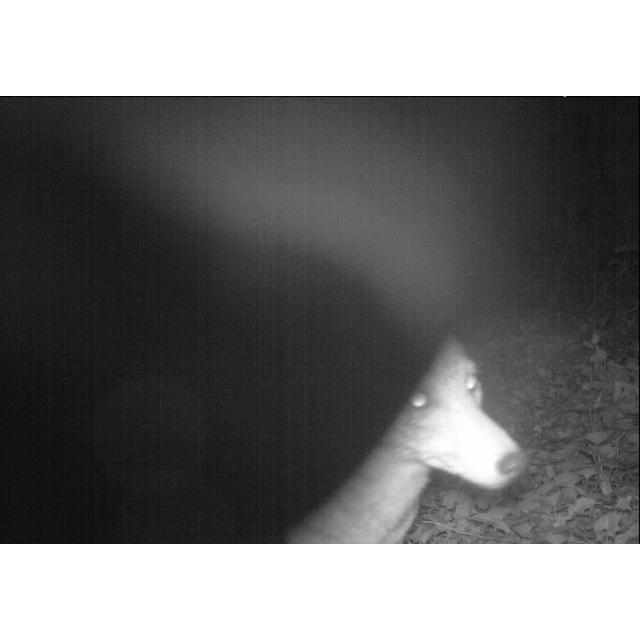animals: (276, 323, 528, 545)
